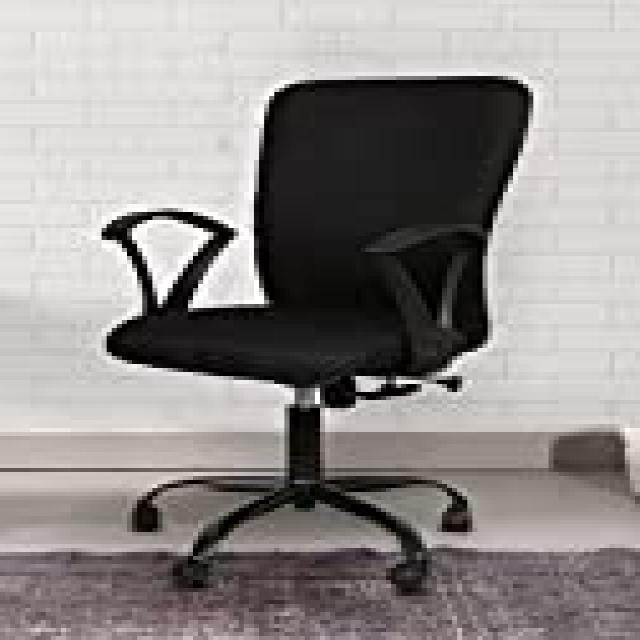chair: (64, 53, 567, 594)
